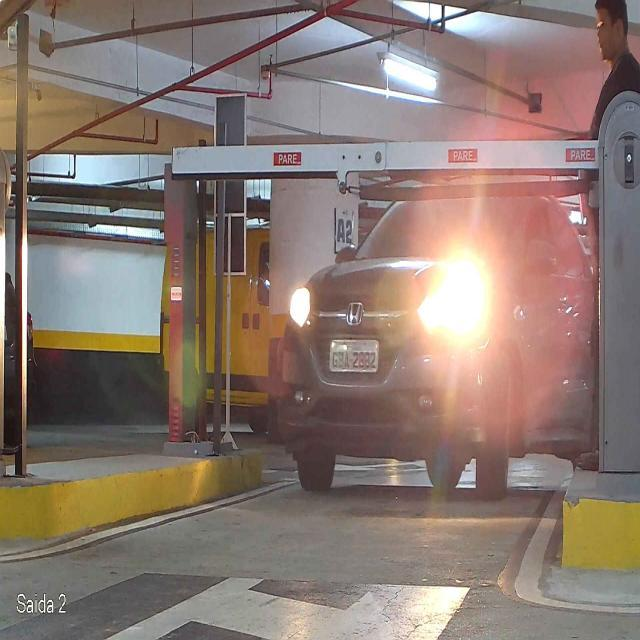old_plate: (326, 336, 382, 376)
